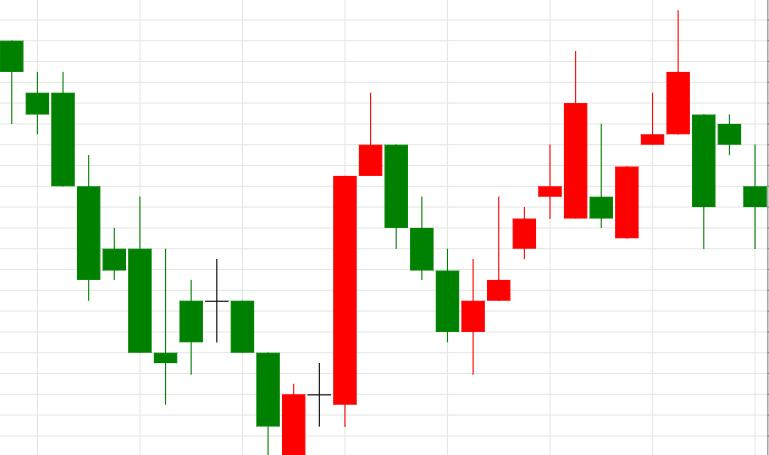three_black_crows_fall: (282, 93, 459, 454)
